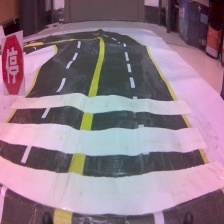stop: (1, 30, 28, 98)
